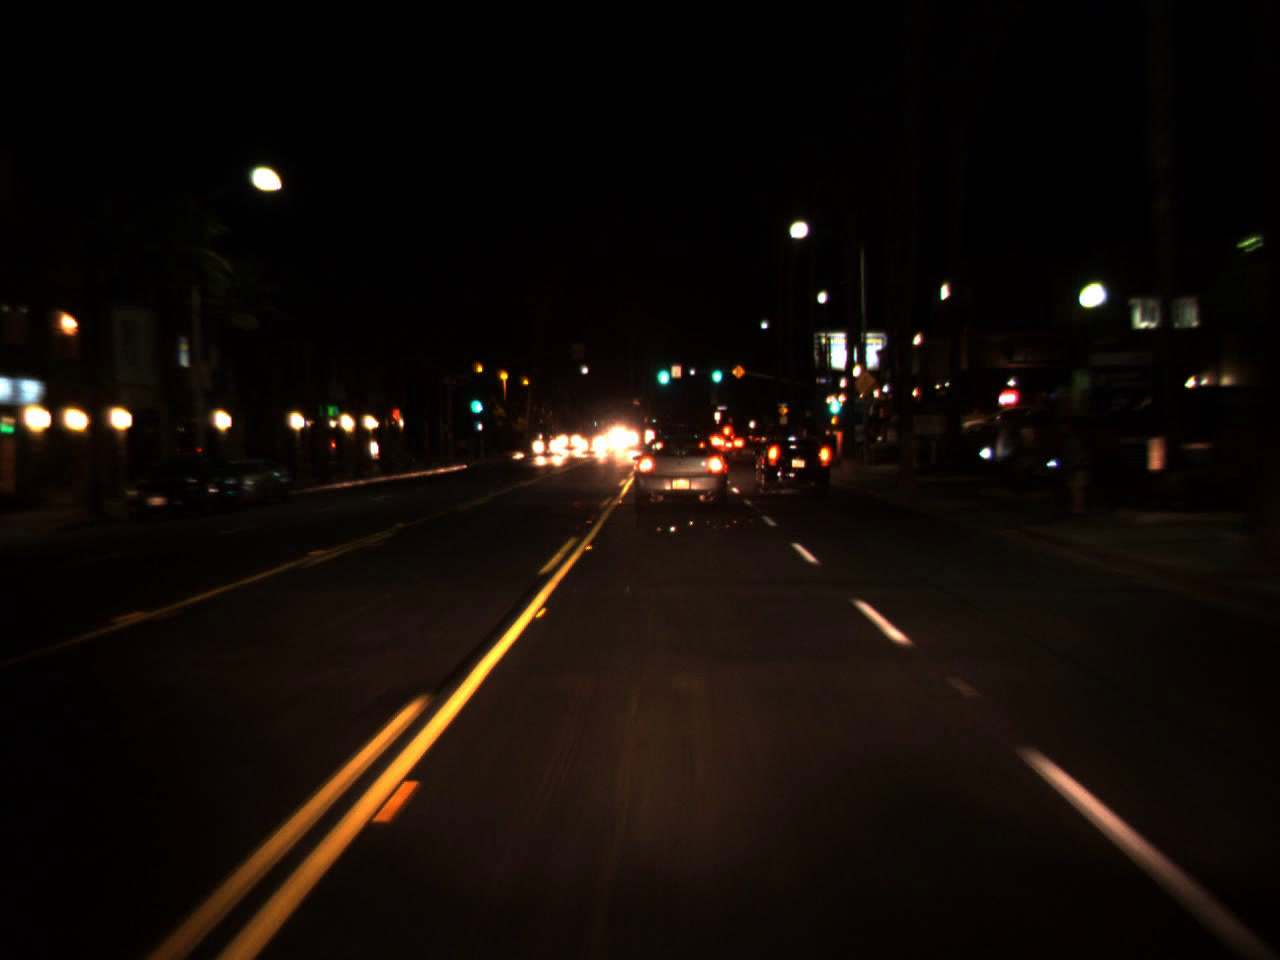go: (652, 351, 671, 390), (823, 385, 844, 418), (468, 384, 482, 417), (709, 356, 719, 386)
